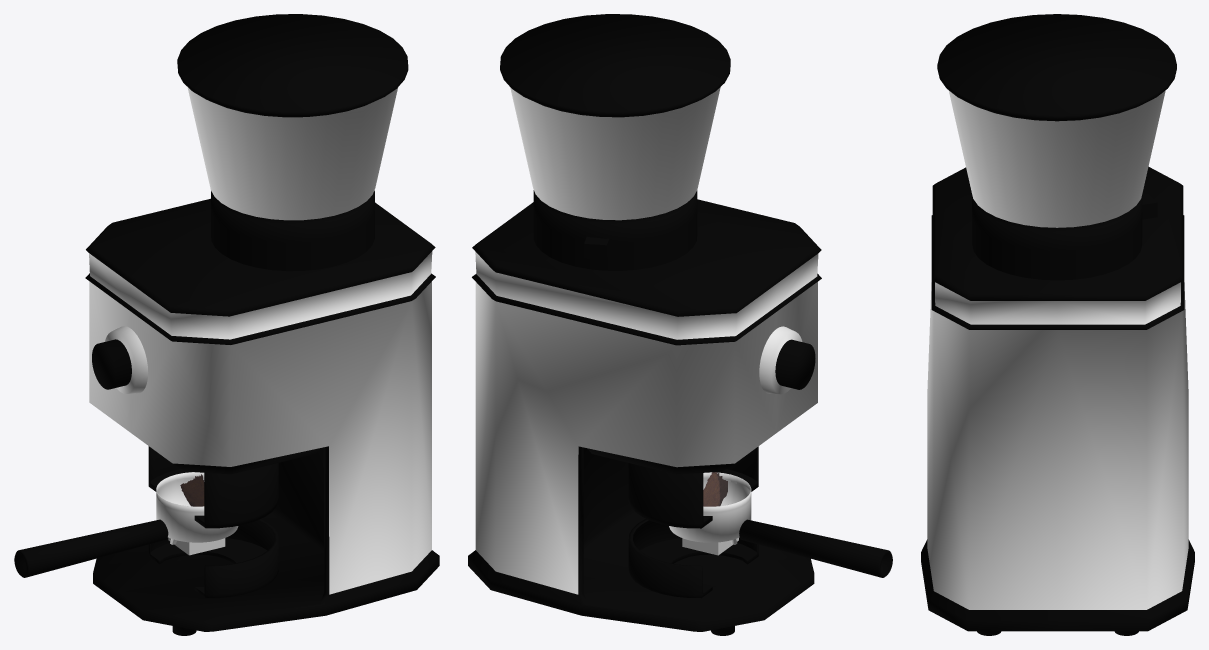
File: model_MoedordeCafe_01 (1).fbx
3 renders of one model, left to right at view 1: azimuth 30°, elevation 25°; view 2: azimuth 150°, elevation 25°; view 3: azimuth 270°, elevation 25°, orthographic. The views are drawn at different scales.
Visible parts, largest first — view 1: Plane.006; view 2: Plane.006; view 3: Plane.006.
Boxes of the visible parts, x1,y1,x2,y2 form: Plane.006: [14, 14, 439, 635]; Plane.006: [468, 14, 892, 635]; Plane.006: [921, 14, 1194, 635].
Size of the model in its own units: 295 by 382 by 180.
4 materials, 1 textured.
